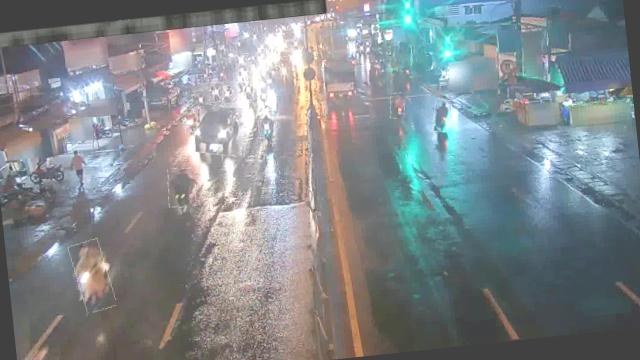Bike: (72, 240, 115, 314), (166, 168, 198, 210), (431, 99, 453, 134), (256, 110, 276, 144), (389, 93, 406, 118), (181, 109, 197, 134), (257, 83, 272, 106), (209, 82, 224, 103), (242, 81, 255, 102), (222, 85, 235, 105), (194, 89, 206, 106)
Car: (192, 102, 248, 158)
Truck: (316, 53, 358, 102)
